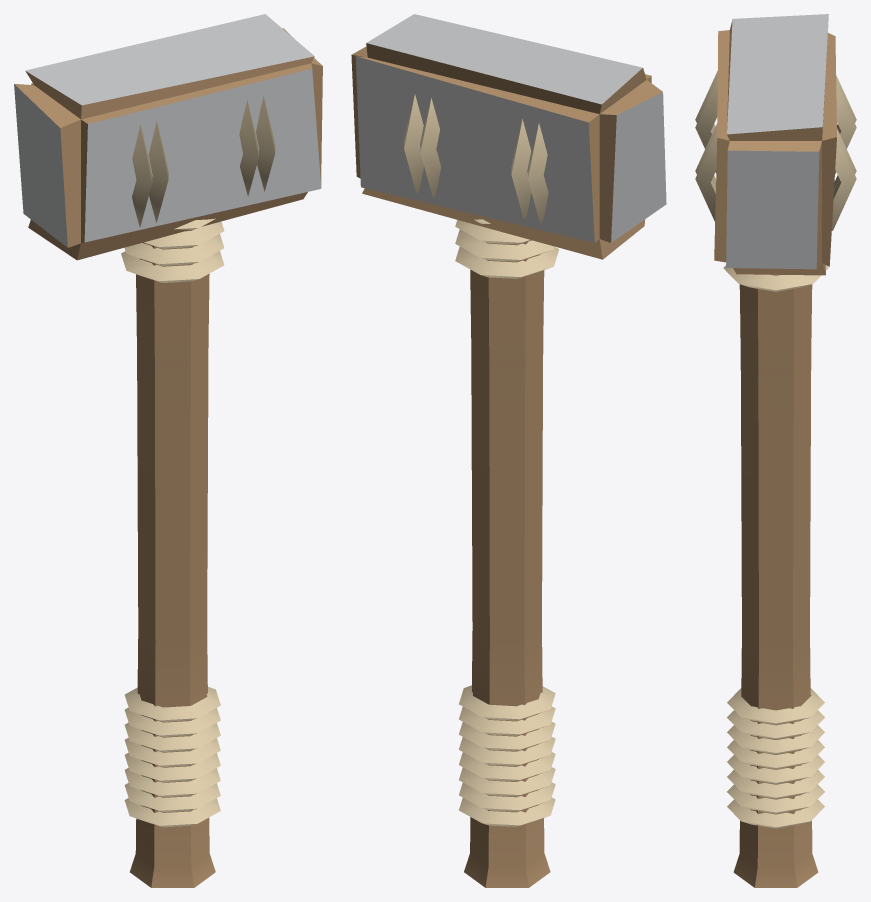
Rendered from StoneHammer.fbx.
3 views of the same model, side by side, from view 1: azimuth 30°, elevation 25°; view 2: azimuth 150°, elevation 25°; view 3: azimuth 270°, elevation 25° (orthographic). The views are drawn at different scales.
Parts seen in each view (by area): view 1: StoneHammer; view 2: StoneHammer; view 3: StoneHammer.
Boxes of the visible parts, x1,y1,x2,y2 form: StoneHammer: (14, 14, 322, 887); StoneHammer: (351, 14, 666, 887); StoneHammer: (695, 14, 856, 887).
Size of the model in its own units: 0.2499 by 0.728 by 0.133.
